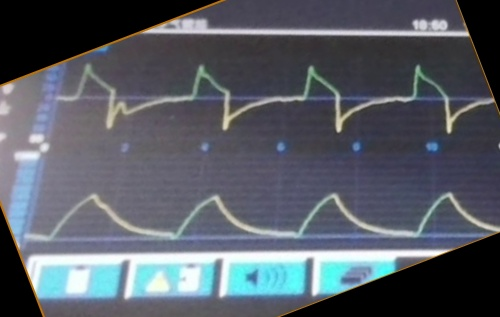Premature_cycling Flow: (71, 59, 476, 137)
Premature_cycling Volume: (42, 180, 473, 242)
